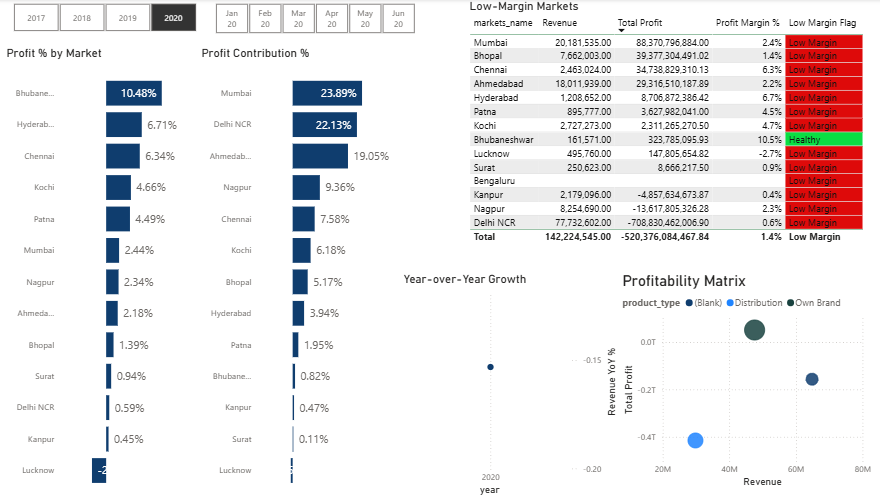

The page's visual inventory and layout, read from the dashboard file:
{"tool":"powerbi","page":{"name":"Page 2","canvas":[1280,720],"ordinal":1},"visuals":[{"type":"actionButton","box":[0,0,100,40],"z":0},{"type":"barChart","title":"Profit % by Market","fields":{"Y":["BaseMeasures.Profit Margin %"],"Category":["sales markets.markets_name"]},"box":[10.2,67.2,280.5,652.8],"z":1000},{"type":"slicer","fields":{"Values":["sales date.year"]},"box":[0,0,311.6,53],"z":2000},{"type":"barChart","title":"Profit Contribution %","fields":{"Y":["BaseMeasures.Profit Margin Contribution"],"Category":["sales markets.markets_name"]},"box":[290.7,67.2,290.7,652.8],"z":3000},{"type":"scatterChart","title":"Profitability Matrix","fields":{"X":["BaseMeasures.Revenue"],"Size":["BaseMeasures.Sales Qty"],"Series":["sales products.product_type"],"Y":["BaseMeasures.Total Profit"]},"box":[897.8,393.5,367.8,314.8],"z":4000},{"type":"tableEx","title":"Low-Margin Markets","fields":{"Values":["sales markets.markets_name","BaseMeasures.Revenue","BaseMeasures.Total Profit","BaseMeasures.Profit Margin %","BaseMeasures.Low Margin Flag"]},"box":[677.2,0,587.7,359.6],"z":5000},{"type":"lineChart","title":"Year-over-Year Growth","fields":{"Category":["sales date.year"],"Y2":["BaseMeasures.Revenue YoY %"]},"box":[581.4,393.5,316.4,326],"z":5001},{"type":"slicer","fields":{"Values":["sales date.cy_date"]},"box":[290.7,0,335.7,53],"z":5002}]}

Visuals, with their boxes in screenshot pixels (x1, y1, x2, y2), scaled from the page's 1280x720 canvas onto the 880x496 screenshot:
actionButton: (x1=0, y1=0, x2=69, y2=28)
"Profit % by Market" barChart: (x1=7, y1=46, x2=200, y2=495)
slicer - sales date.year: (x1=0, y1=0, x2=214, y2=37)
"Profit Contribution %" barChart: (x1=200, y1=46, x2=400, y2=495)
"Profitability Matrix" scatterChart: (x1=617, y1=271, x2=870, y2=488)
"Low-Margin Markets" tableEx: (x1=466, y1=0, x2=870, y2=248)
"Year-over-Year Growth" lineChart: (x1=400, y1=271, x2=617, y2=495)
slicer - sales date.cy_date: (x1=200, y1=0, x2=431, y2=37)
